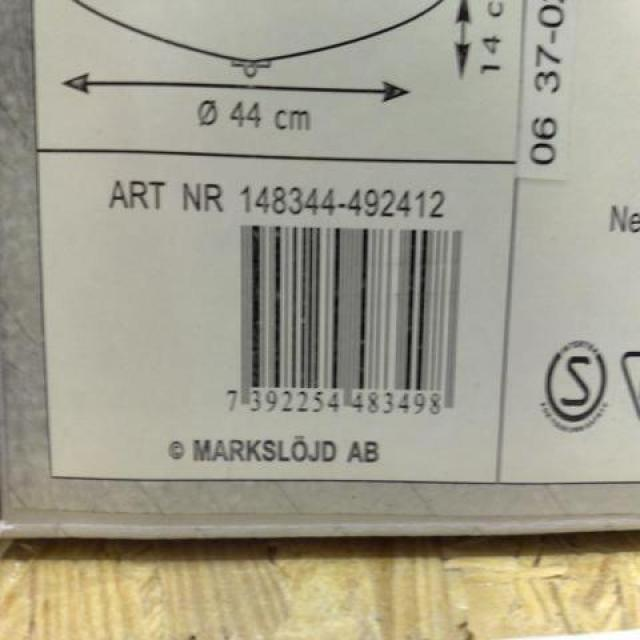Barcode: (217, 218, 475, 426)
